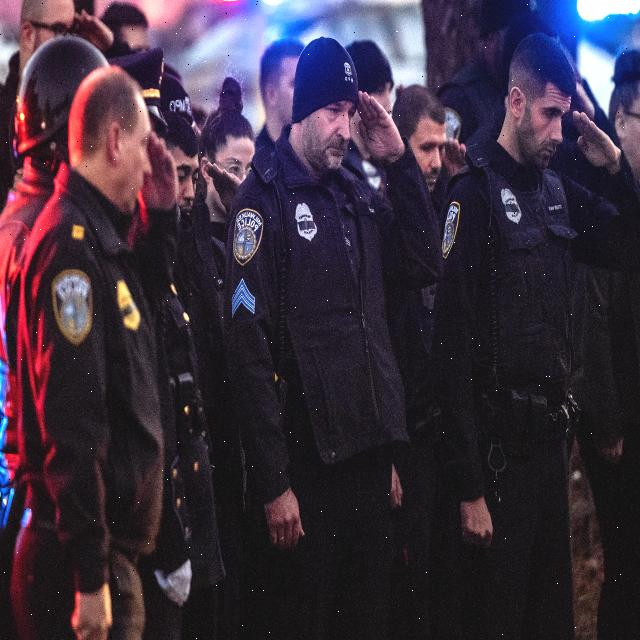police: (218, 42, 432, 640), (434, 50, 635, 640), (0, 57, 178, 640)
